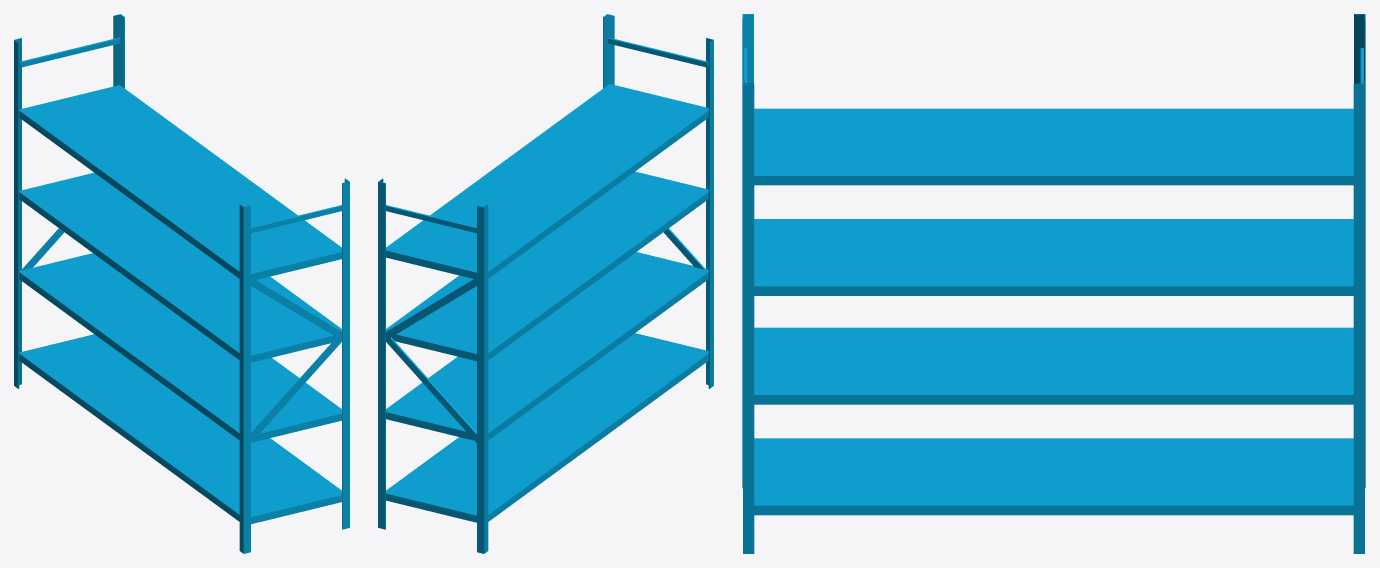
The model's file is Shelf_01.fbx.
3 renders of one model, left to right at view 1: azimuth 30°, elevation 25°; view 2: azimuth 150°, elevation 25°; view 3: azimuth 270°, elevation 25°, orthographic. The views are drawn at different scales.
Parts seen in each view (by area): view 1: Shelf_01; view 2: Shelf_01; view 3: Shelf_01.
Part boxes in pixels (x1,y1,x2,y2): Shelf_01: [14, 14, 349, 553]; Shelf_01: [378, 14, 713, 553]; Shelf_01: [742, 14, 1365, 553].
Size of the model in its own units: 104 by 325 by 390.
